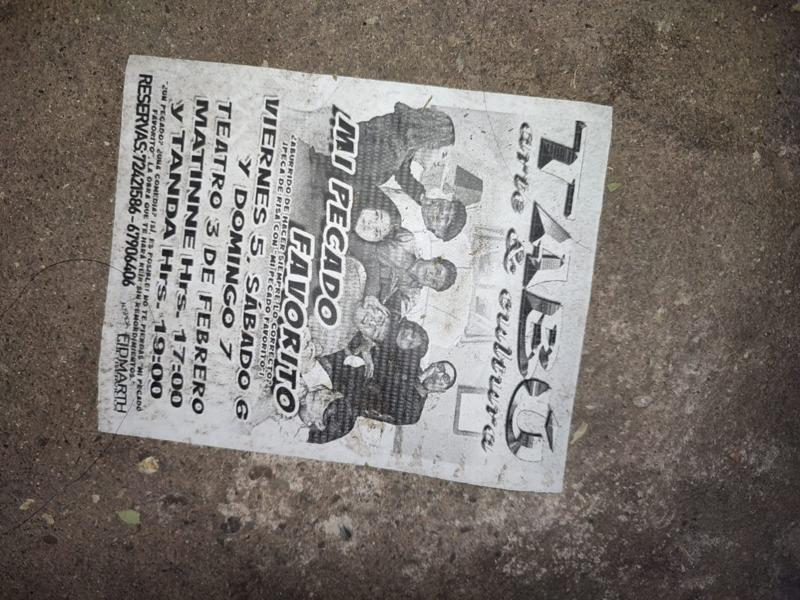papel: (96, 57, 614, 497)
